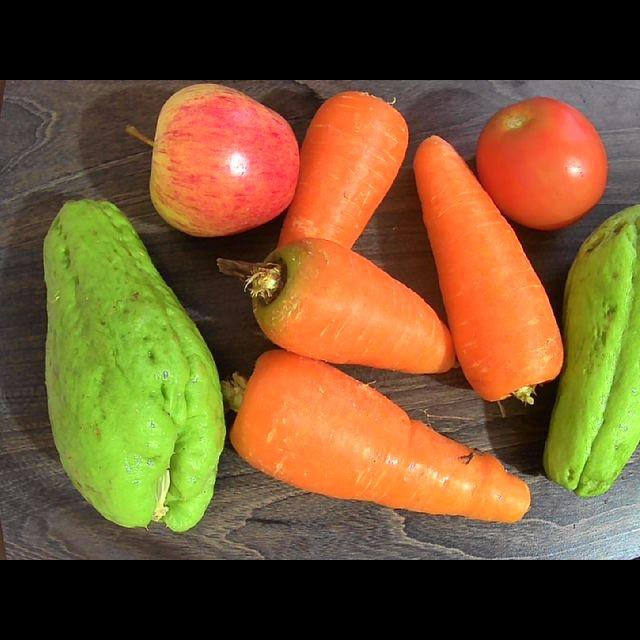chayote: (44, 199, 225, 531), (543, 205, 639, 495)
manzana: (129, 84, 299, 236)
tomate: (476, 97, 607, 229)
zanahoria: (230, 350, 530, 522), (413, 136, 563, 403), (218, 238, 454, 373), (277, 91, 408, 247)
